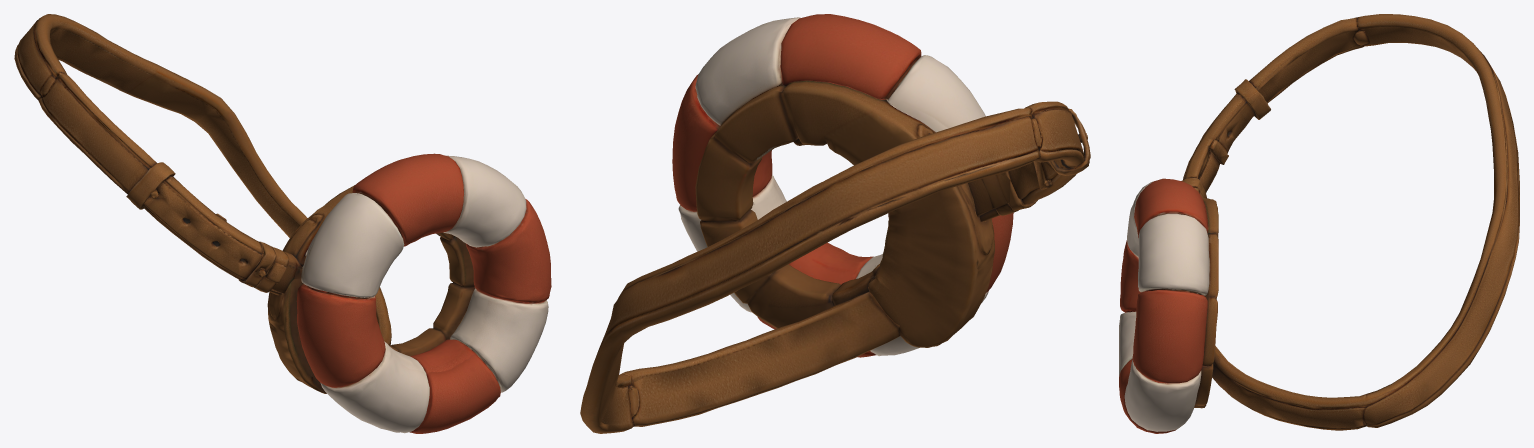
The model's file is mem_ac_tube.fbx.
The picture shows the model from 3 angles, left to right: view 1: azimuth 30°, elevation 25°; view 2: azimuth 150°, elevation 25°; view 3: azimuth 270°, elevation 25°; orthographic projection. The views are drawn at different scales.
Visible parts, largest first — view 1: tripo_node_e018bf1a; view 2: tripo_node_e018bf1a; view 3: tripo_node_e018bf1a.
Part boxes in pixels (bbox=[...]): tripo_node_e018bf1a: bbox=[14, 14, 551, 433]; tripo_node_e018bf1a: bbox=[580, 14, 1090, 433]; tripo_node_e018bf1a: bbox=[1119, 14, 1519, 433].
Size of the model in its own units: 0.998 by 0.8262 by 0.998.
